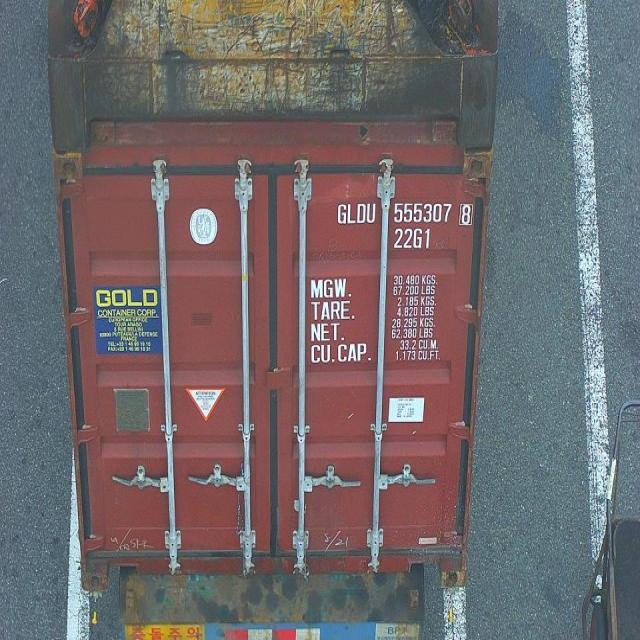ISO: (392, 228, 434, 251)
container_number: (340, 202, 476, 224)
